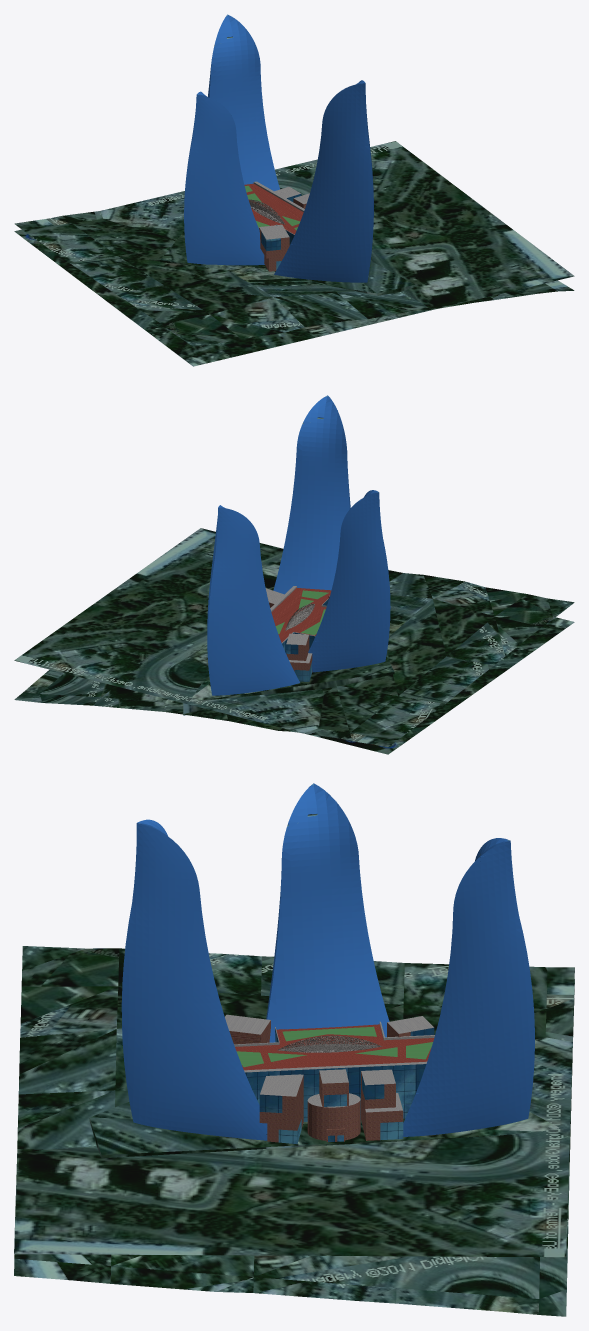
File: flame-towers.glb
3 renders of one model, top to bottom at view 1: azimuth 30°, elevation 25°; view 2: azimuth 150°, elevation 25°; view 3: azimuth 270°, elevation 25°, orthographic. The views are drawn at different scales.
Size of the model in its own units: 356 by 216 by 300.
13 materials, 11 textured.
